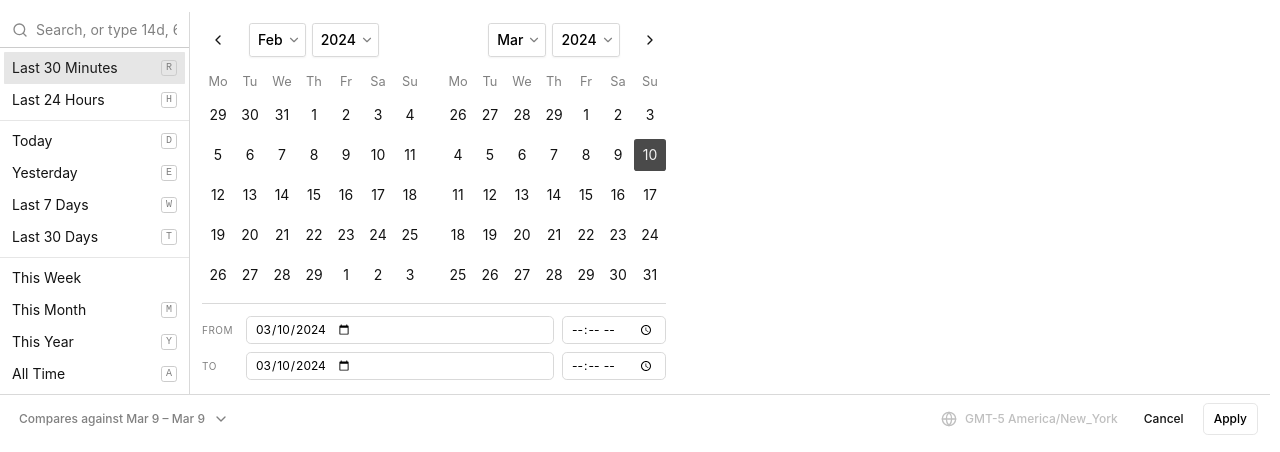
Test: RangePanel draft › refuses a wall time that daylight saving skipped
Type "02:30" into the time field named "Start time" at (614, 330), box [562,316,666,344]
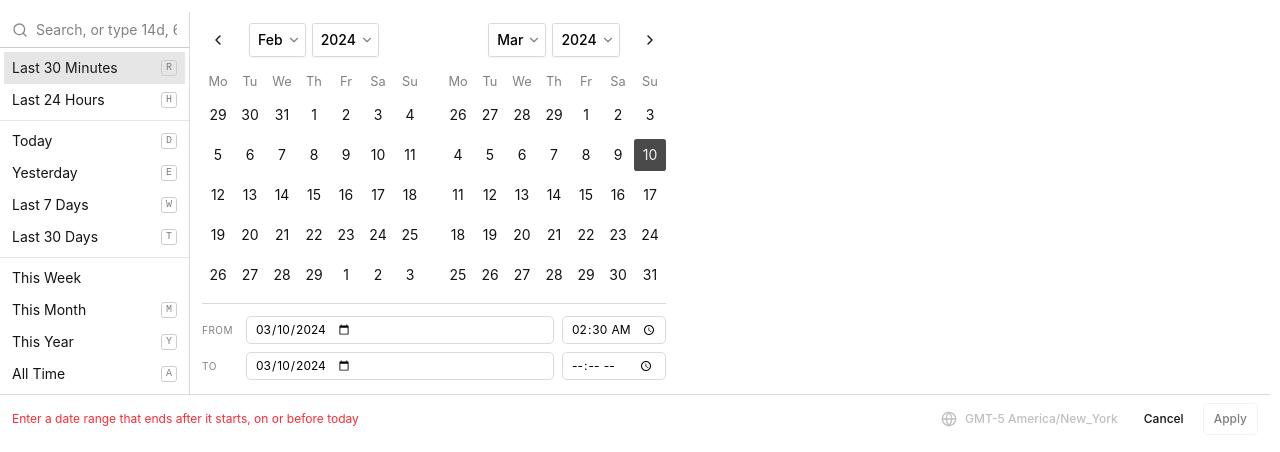
Expected: the button "Apply" is disabled, [1203,403,1258,435]
